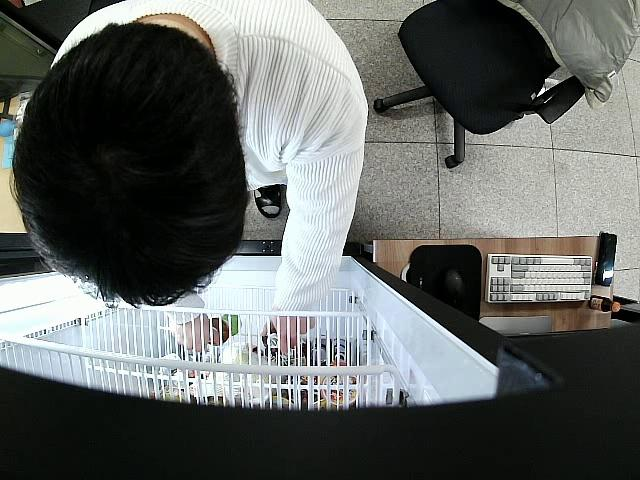00_hand: (266, 311, 317, 352), (173, 313, 211, 352)
19_17cha: (209, 314, 241, 346), (263, 324, 280, 352)
